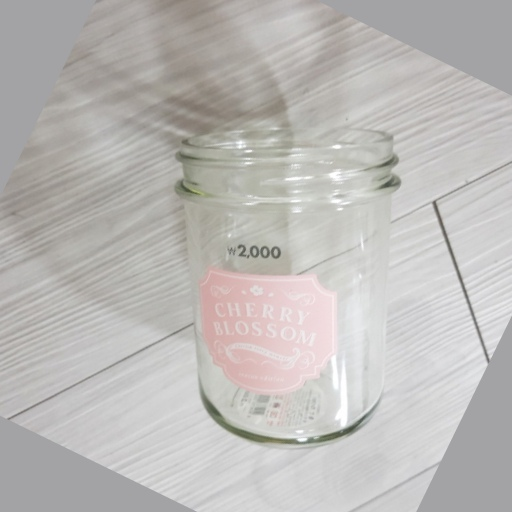Glass_5: (168, 126, 402, 452)
